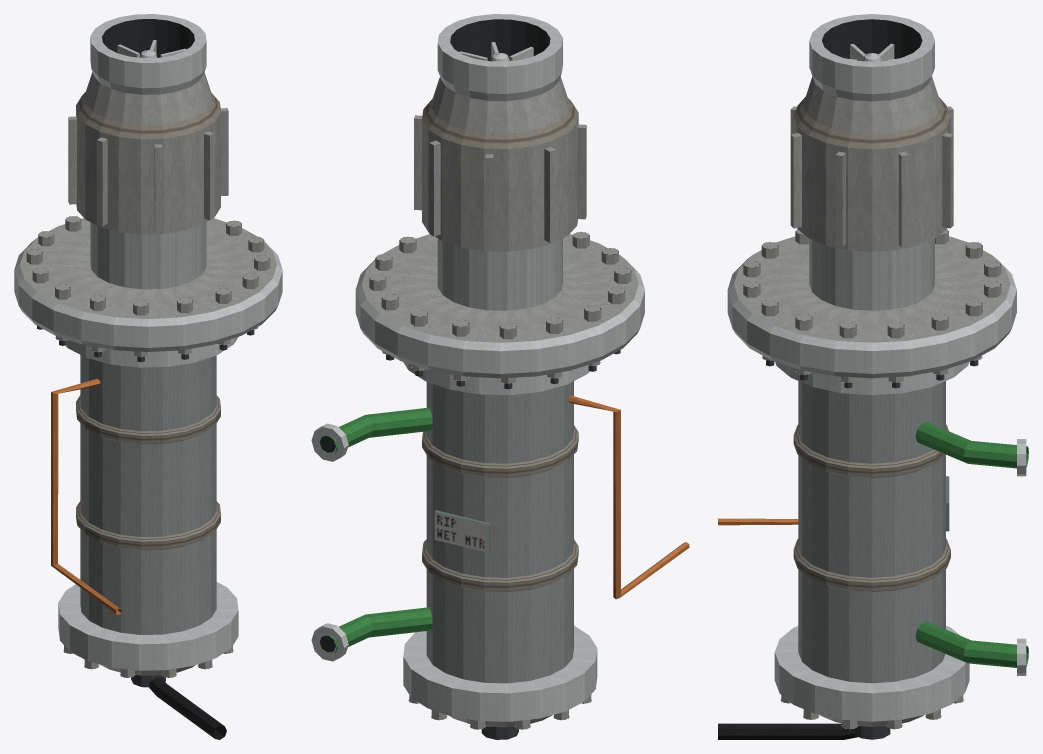
File: inventory.obj
The picture shows the model from 3 angles, left to right: view 1: azimuth 30°, elevation 25°; view 2: azimuth 150°, elevation 25°; view 3: azimuth 270°, elevation 25°; orthographic projection. The views are drawn at different scales.
Size of the model in its own units: 0.3376 by 0.9 by 0.3626.
